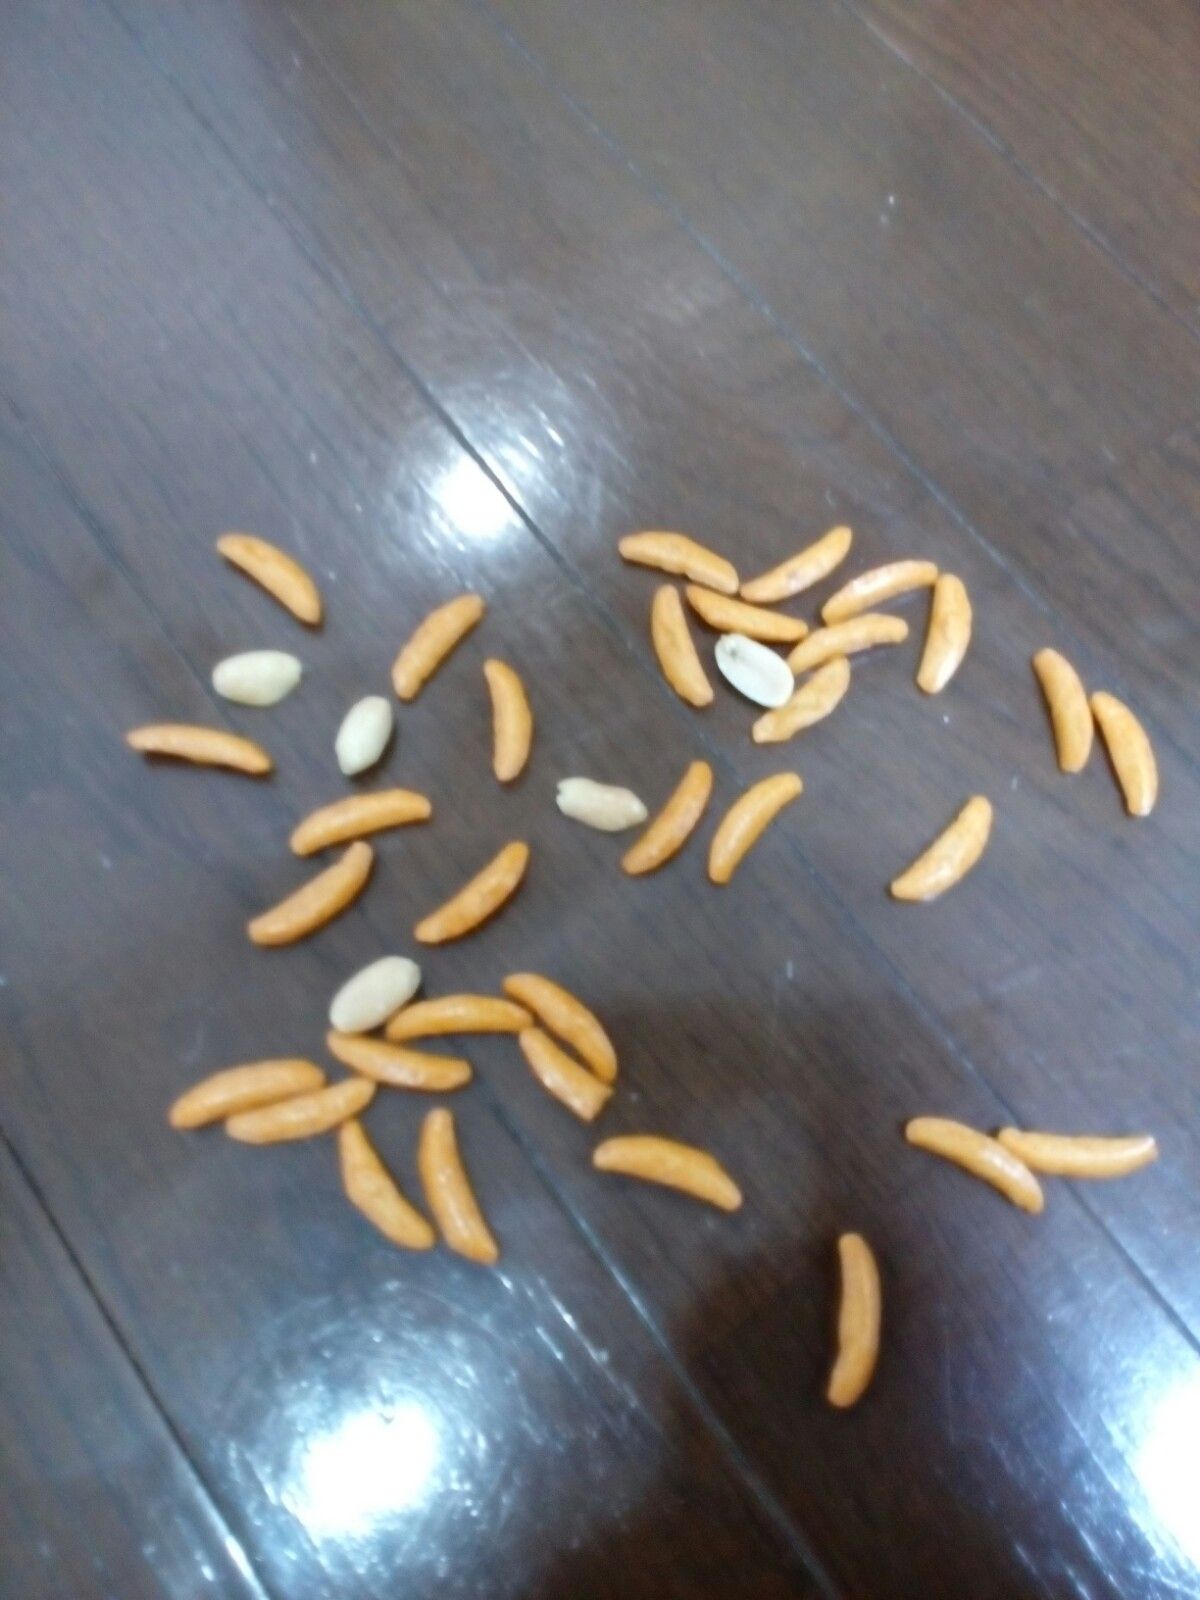peanut: (318, 942, 439, 1042), (326, 687, 416, 799), (192, 631, 320, 704), (701, 619, 805, 708), (541, 763, 661, 842)
